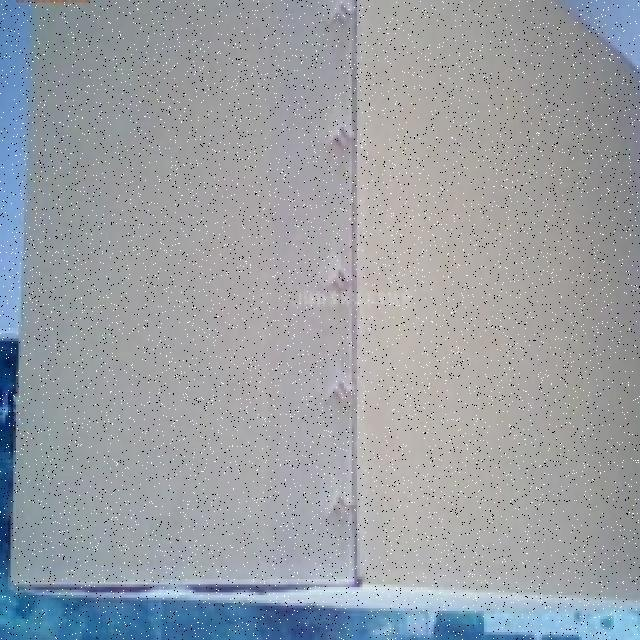box: (13, 0, 640, 624)
